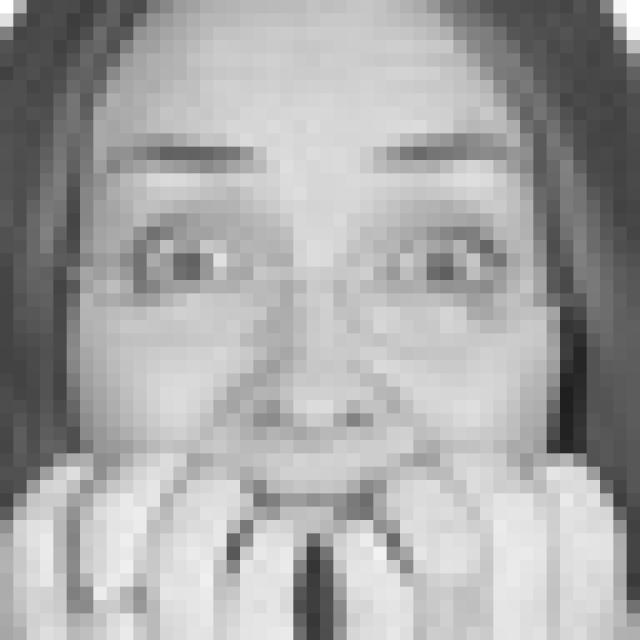fear: (107, 133, 539, 601)
